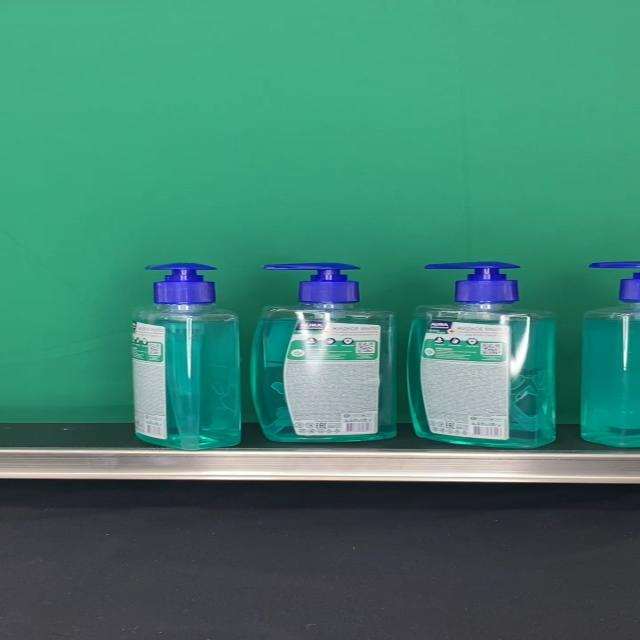Bottle: (407, 262, 557, 448), (250, 263, 398, 442), (130, 262, 241, 450)
Cap: (263, 263, 362, 304), (425, 262, 523, 303), (144, 263, 218, 305)
